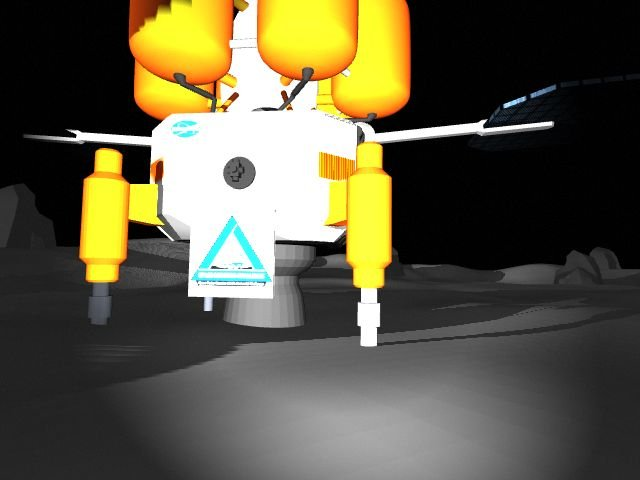basemarker: (190, 215, 274, 288)
